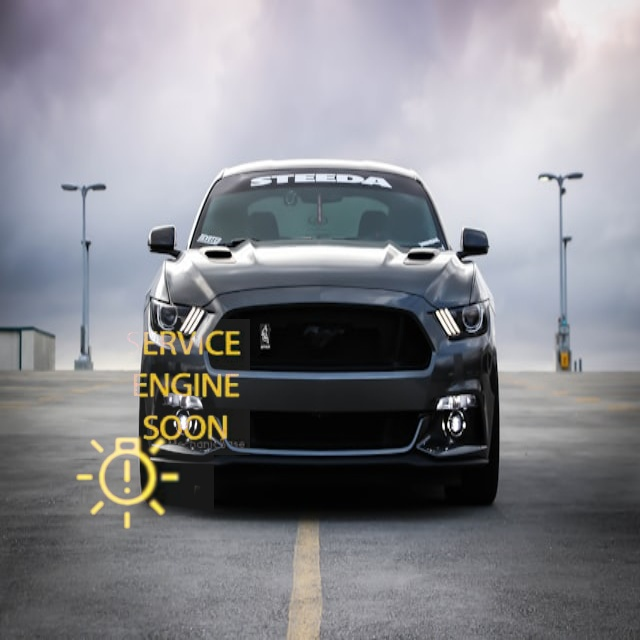symbol: (44, 399, 214, 569), (114, 319, 250, 455)
